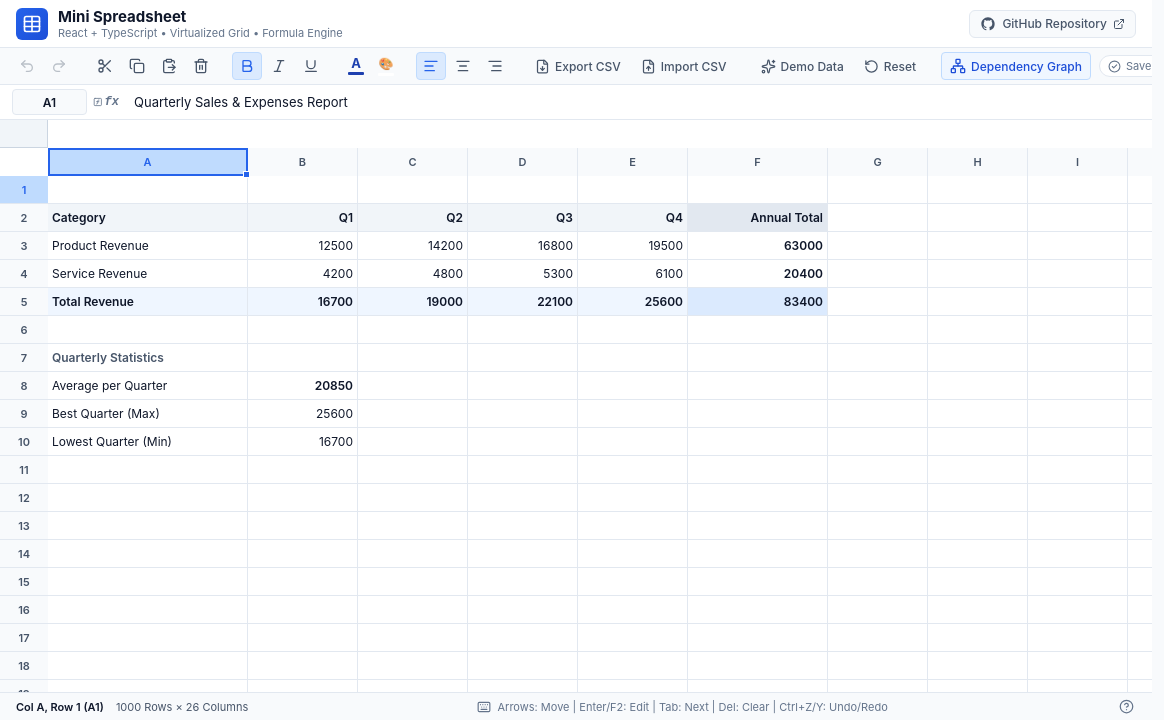
Recruiter Comprehensive End-to-End Evaluation › 6. History: Undo and Redo operations restore states accurately
Expected: the button named "Undo" is disabled, [12,52,42,80]
Expected: the button named "Redo" is disabled, [44,52,74,80]
Double-click the text "12500".
double_click(336, 246)  # box [318,238,353,253]
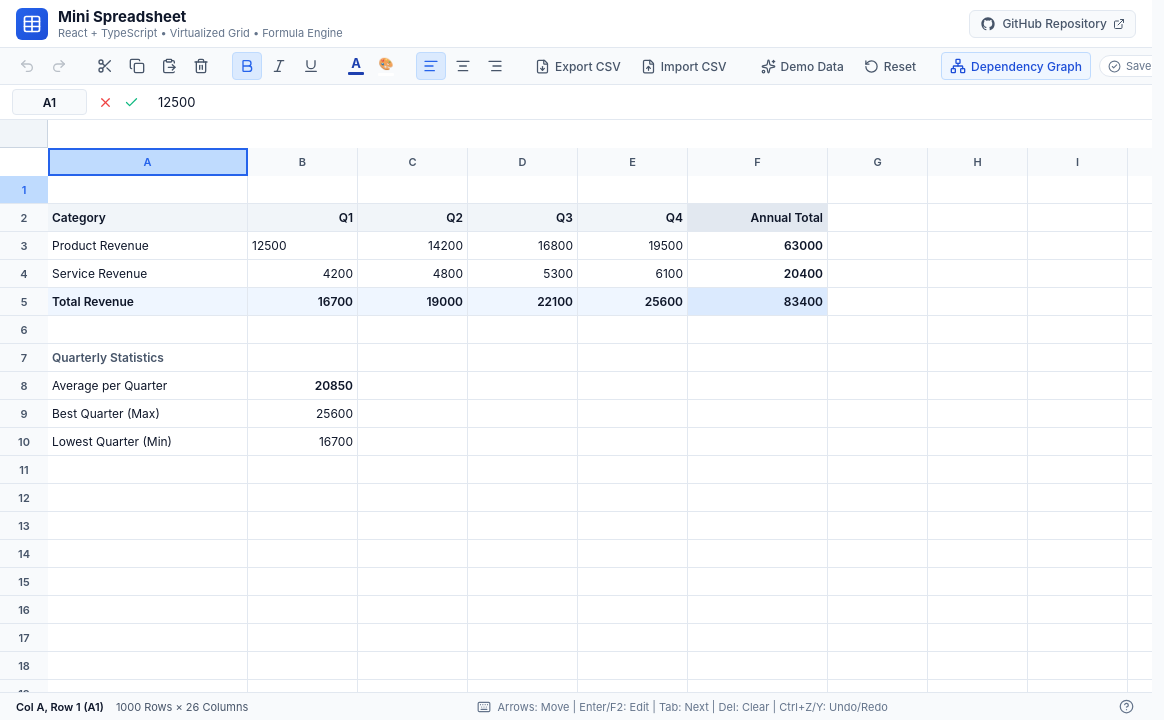
Replace the text in the field named "Editing cell B4" with "99999" at (302, 246), box [252,232,353,259]
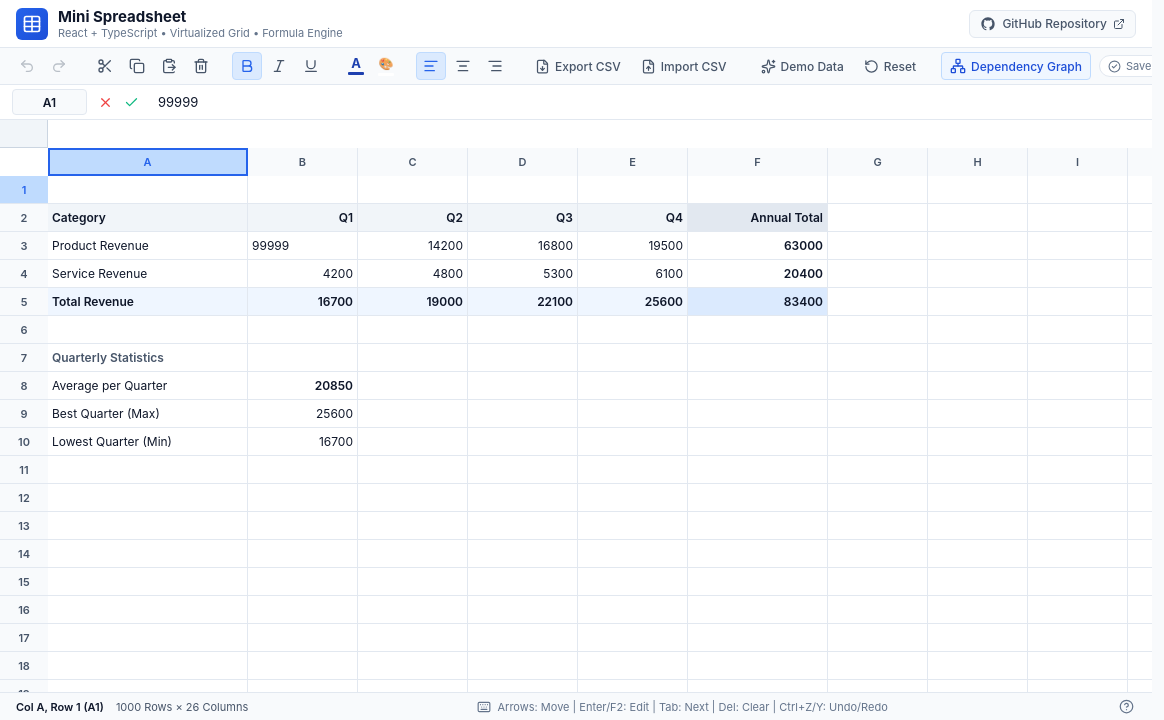
Press Enter in the field named "Editing cell B4", box [252,232,353,259]
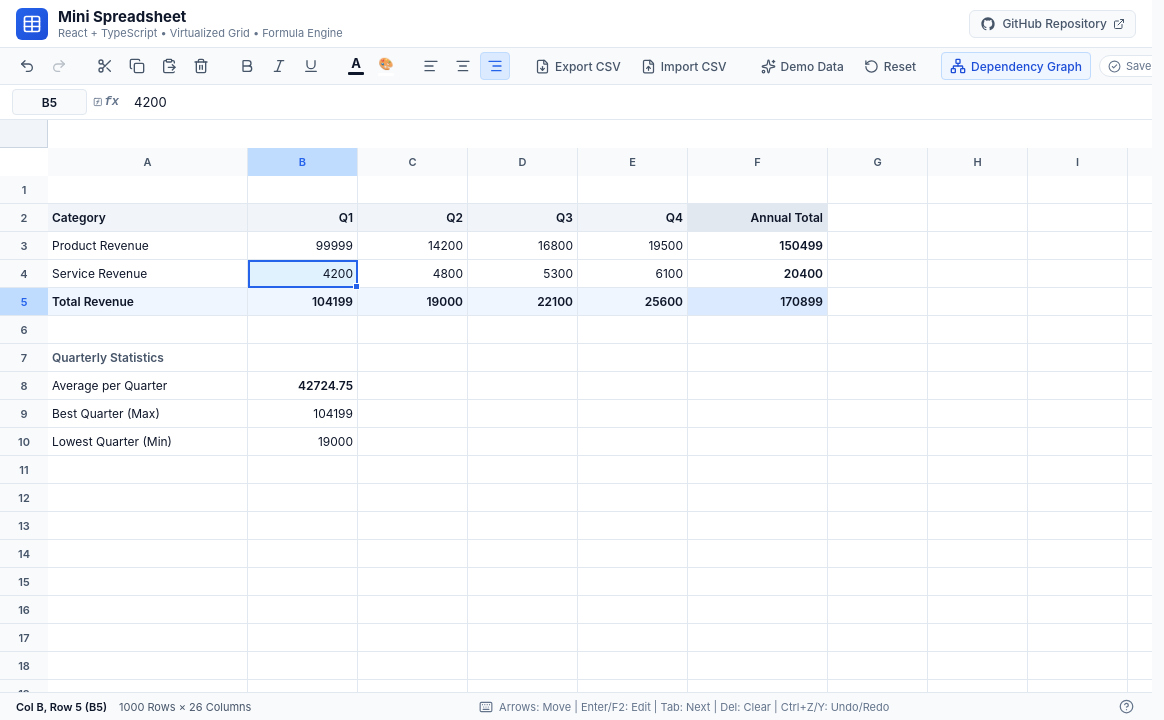
Now the text "99999" is shown, box [316,238,353,253]
Now the button named "Undo" is enabled
Click Undo
Click the button named "Undo".
click(27, 66)  # box [12,52,42,80]
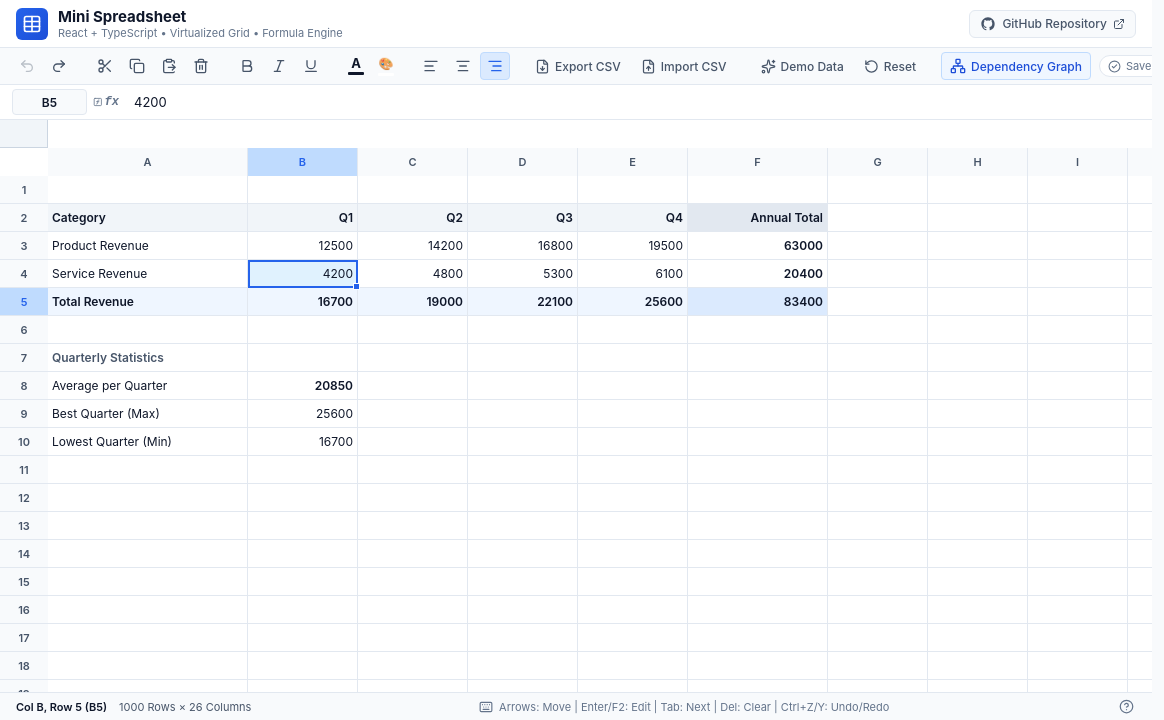
Now the text "12500" is shown, box [318,238,353,253]
Now the button named "Redo" is enabled
Click Redo
Click the button named "Redo".
click(59, 66)  # box [44,52,74,80]
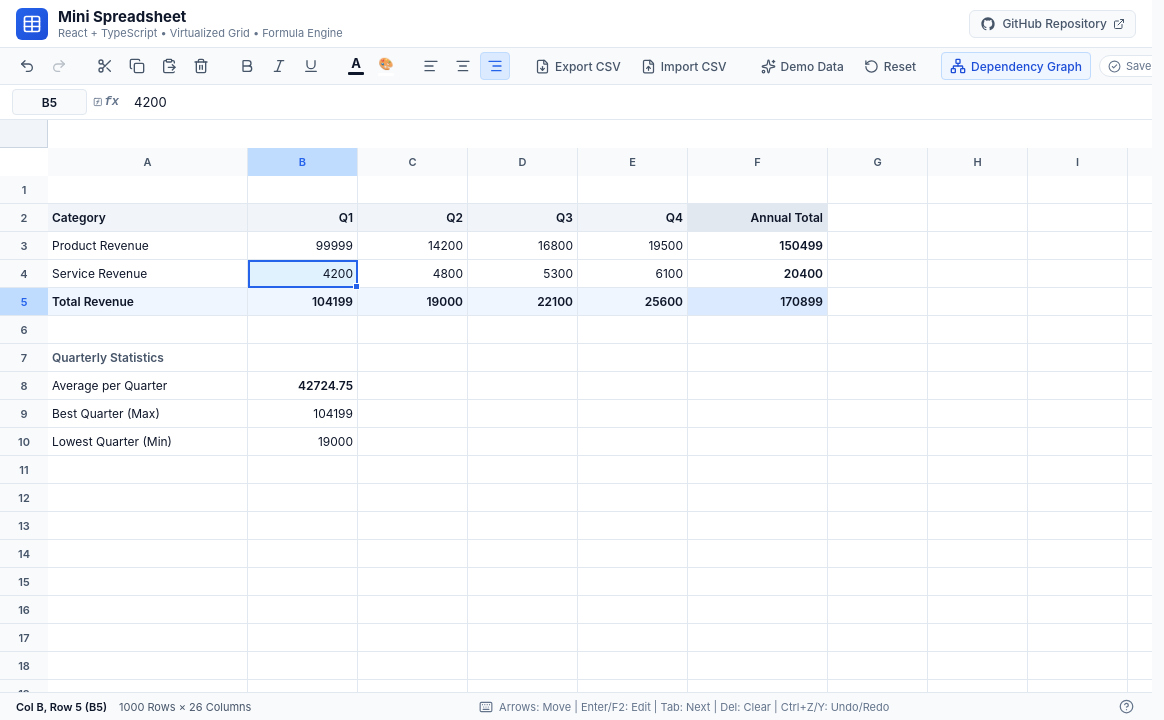
Now the text "99999" is shown, box [316,238,353,253]
